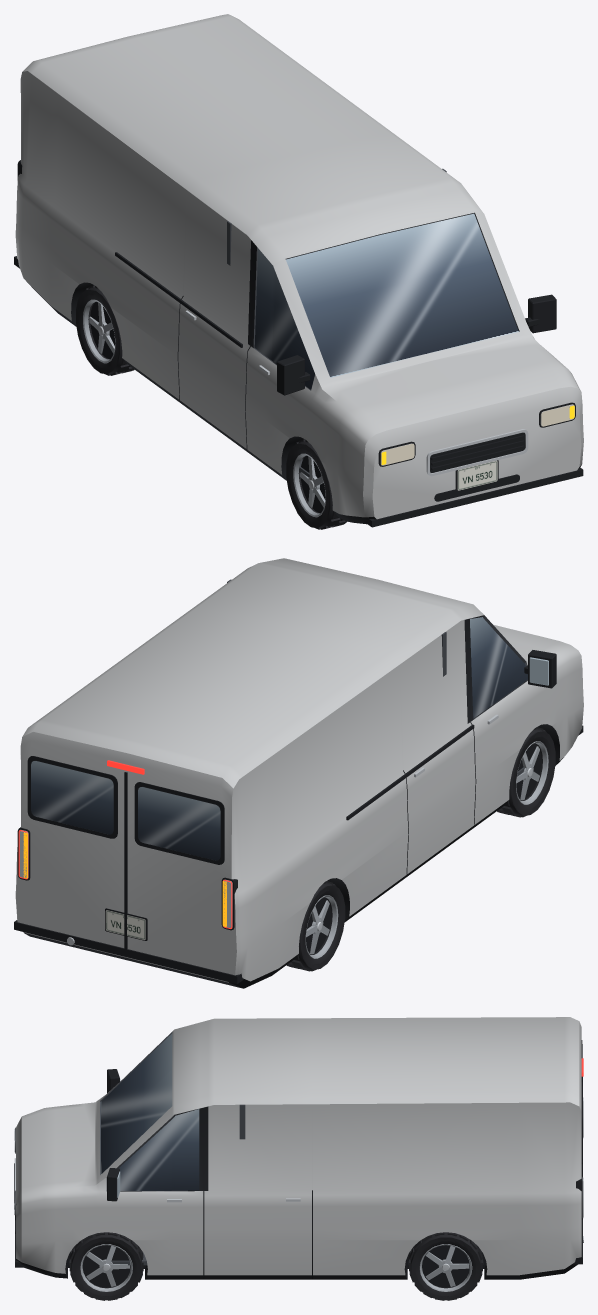
File: Van.fbx
The picture shows the model from 3 angles, top to bottom: view 1: azimuth 30°, elevation 25°; view 2: azimuth 150°, elevation 25°; view 3: azimuth 270°, elevation 25°; orthographic projection. The views are drawn at different scales.
Parts seen in each view (by area): view 1: Body, Wheel_RR, Wheel_FR; view 2: Body, Wheel_RR, Wheel_FR; view 3: Body, Wheel_RL, Wheel_FL.
Part boxes in pixels (x1,y1,x2,y2): Body: (14,14,583,527); Wheel_RR: (76,285,134,375); Wheel_FR: (286,439,346,529); Body: (14,558,583,988); Wheel_RR: (286,881,345,971); Wheel_FR: (497,727,555,817); Body: (14,1017,583,1279); Wheel_RL: (408,1232,483,1300); Wheel_FL: (69,1232,143,1300).
Size of the model in its own units: 2.27 by 2 by 5.04.
